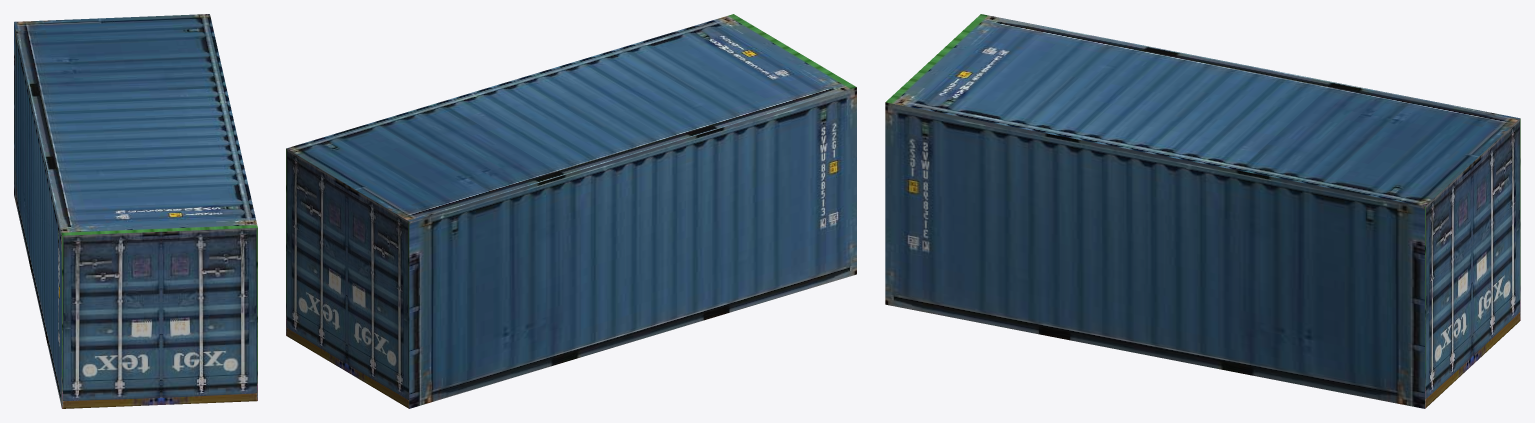
Rendered from blue.fbx.
3 renders of one model, left to right at view 1: azimuth 30°, elevation 25°; view 2: azimuth 150°, elevation 25°; view 3: azimuth 270°, elevation 25°, orthographic. The views are drawn at different scales.
Visible parts, largest first — view 1: polySurface25; view 2: polySurface25; view 3: polySurface25.
Part boxes in pixels (<box>): polySurface25: <box>14,14,257,408</box>; polySurface25: <box>286,14,856,408</box>; polySurface25: <box>885,14,1520,408</box>.
Bounding box in the file's own units: 12.79 × 6.26 × 17.82.
Materials: 1 (1 with a texture image).
